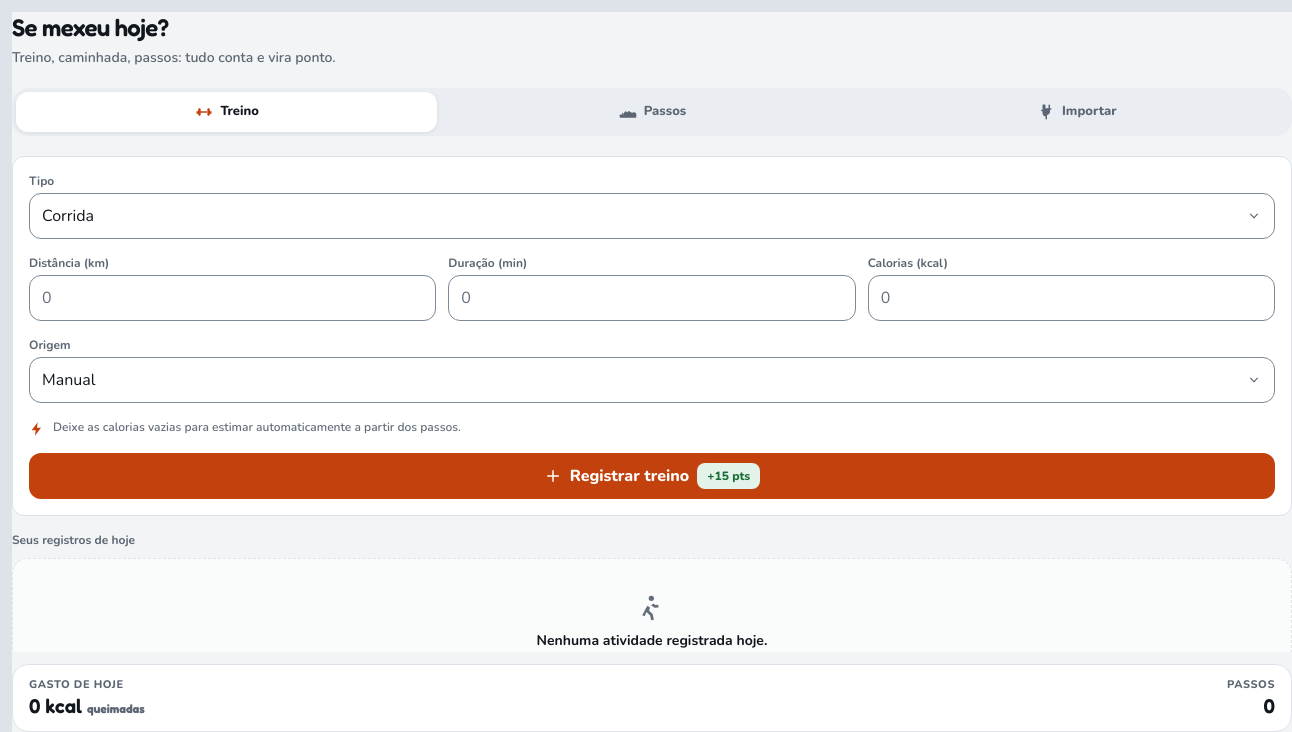
Scenario: ActivityPage workout form › refuses a negative distance
In the number field labelled "Distância (km)": coordinates (233, 298) [29,275,436,321], type "-1"
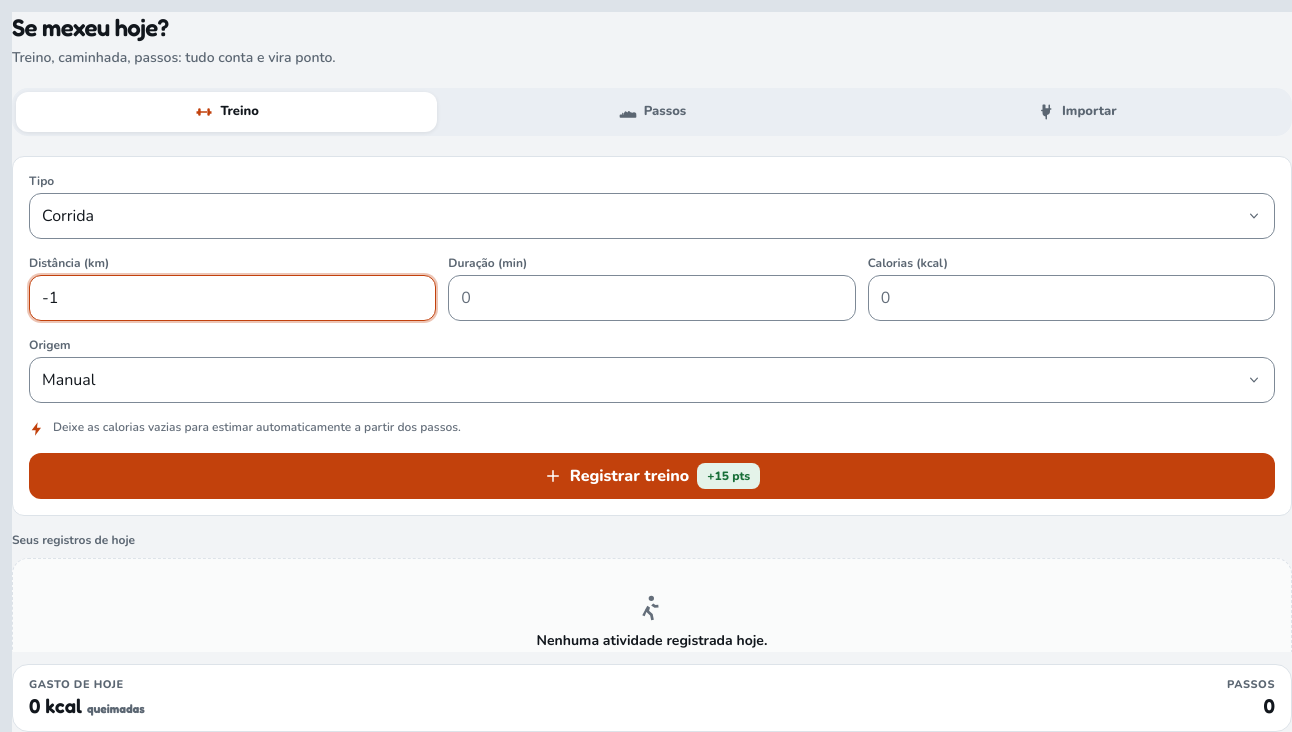
Click the button "Registrar treino +15 pts": coordinates (652, 476) [29,453,1275,499]
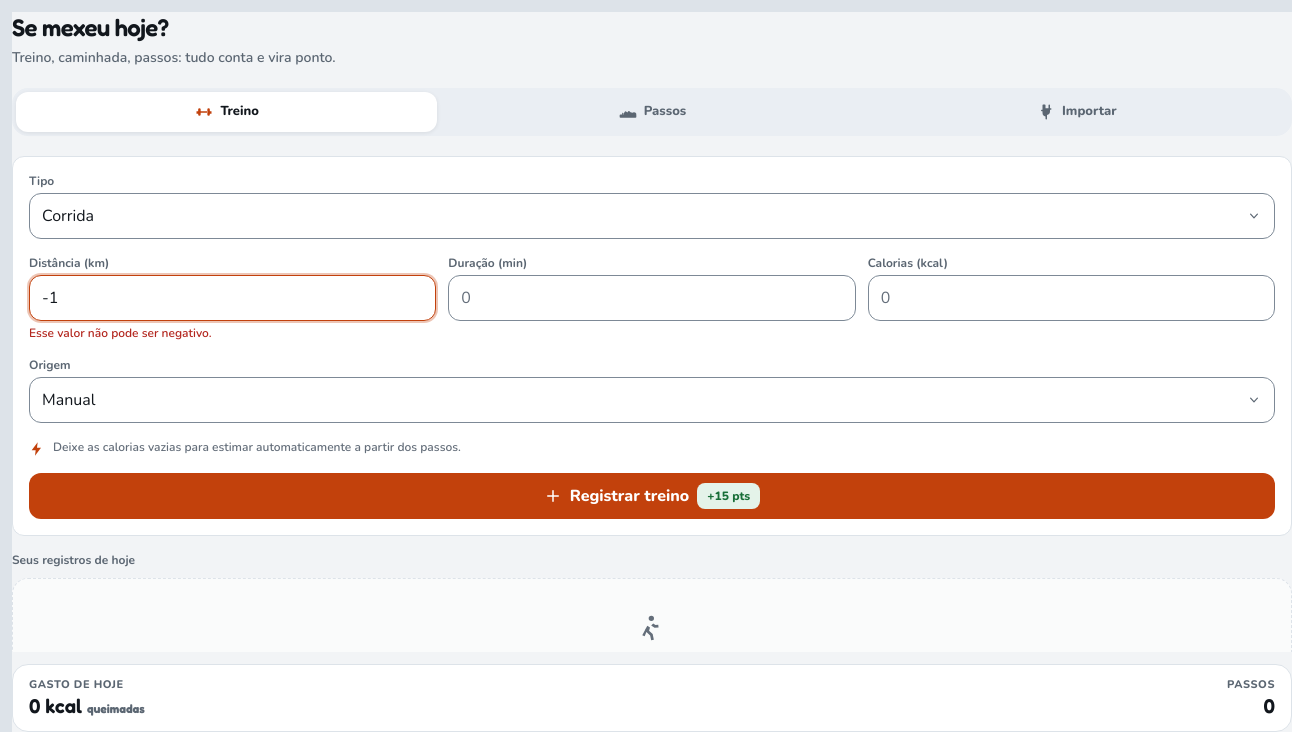
Result: the message reads "Esse valor não pode ser negativo." at [29,325,212,341]
